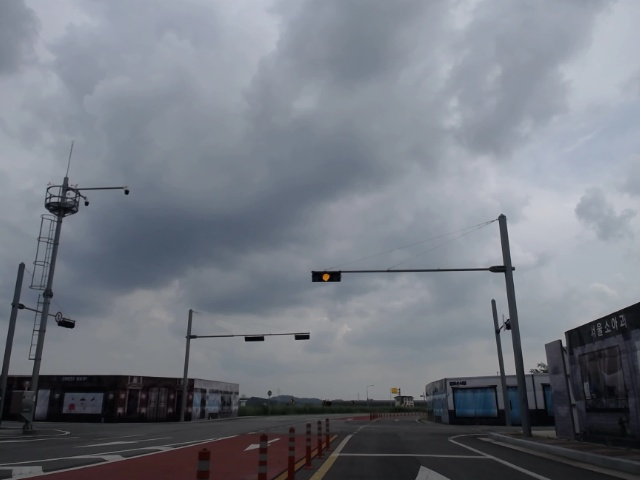orange_3: (312, 272, 341, 283)
